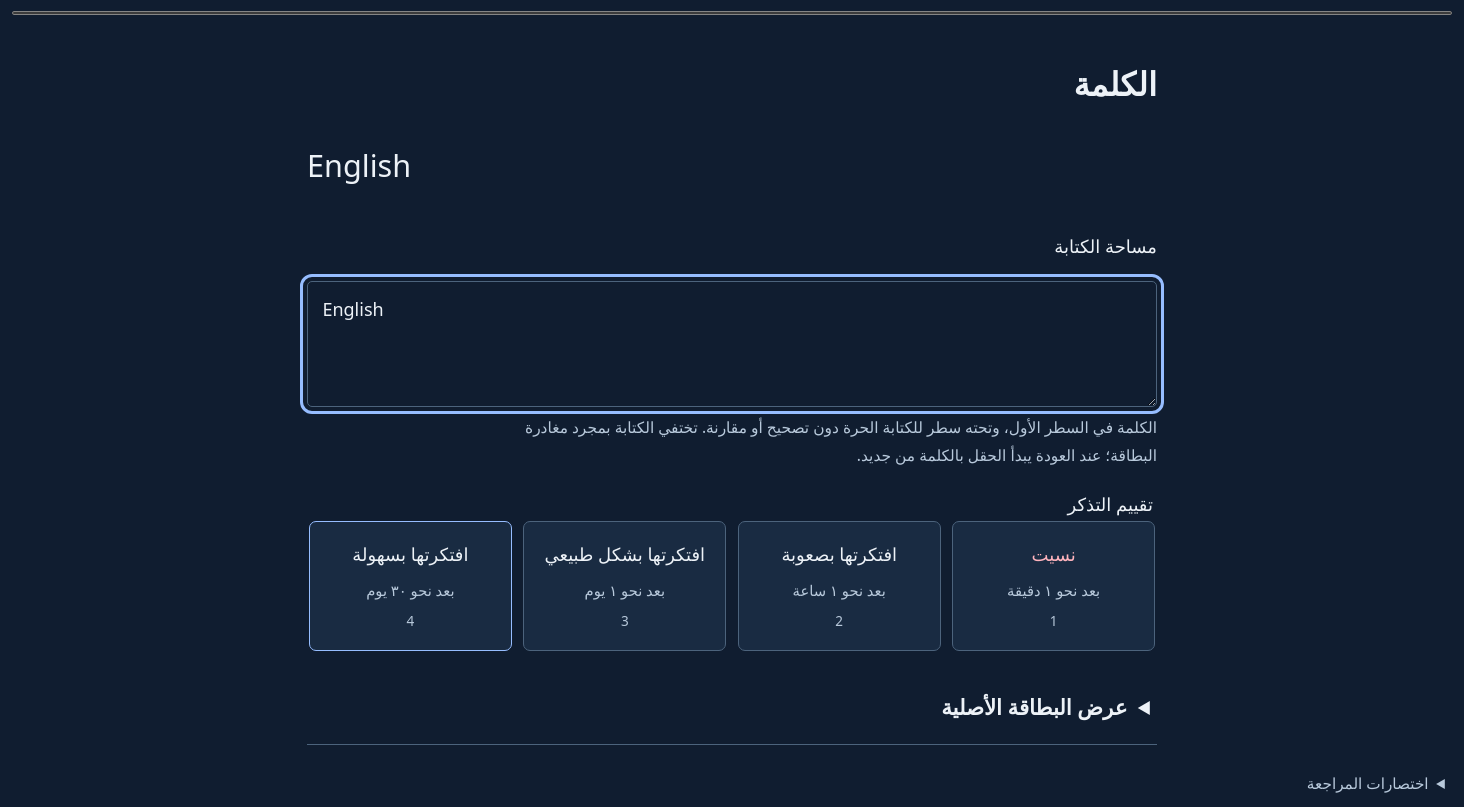
Scenario: loads bounded retained contexts on request and paginates plain saved versions
(page scrolled)
Click the heading "عرض البطاقة الأصلية": (1034, 707) [941, 692, 1127, 721]
(page scrolled)
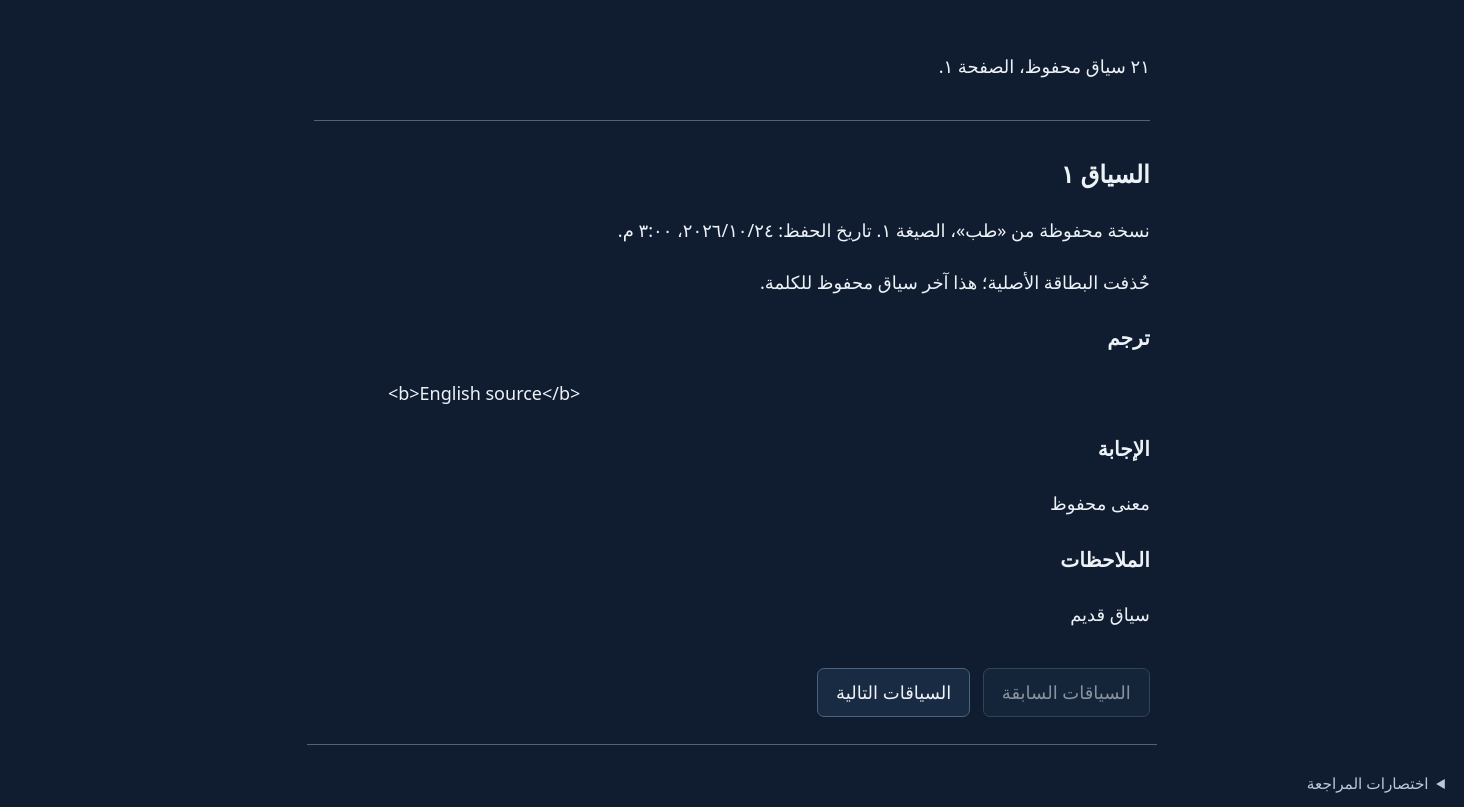
Now the text "<b>English source</b>" is shown, box [388, 380, 580, 404]
Now the text "حُذفت البطاقة الأصلية؛ هذا آخر سياق محفوظ للكلمة." is shown, box [760, 270, 1150, 294]
Now the text "نسخة محفوظة" is shown, box [997, 218, 1150, 242]
Click the button "السياقات التالية": (894, 692) [817, 668, 970, 717]
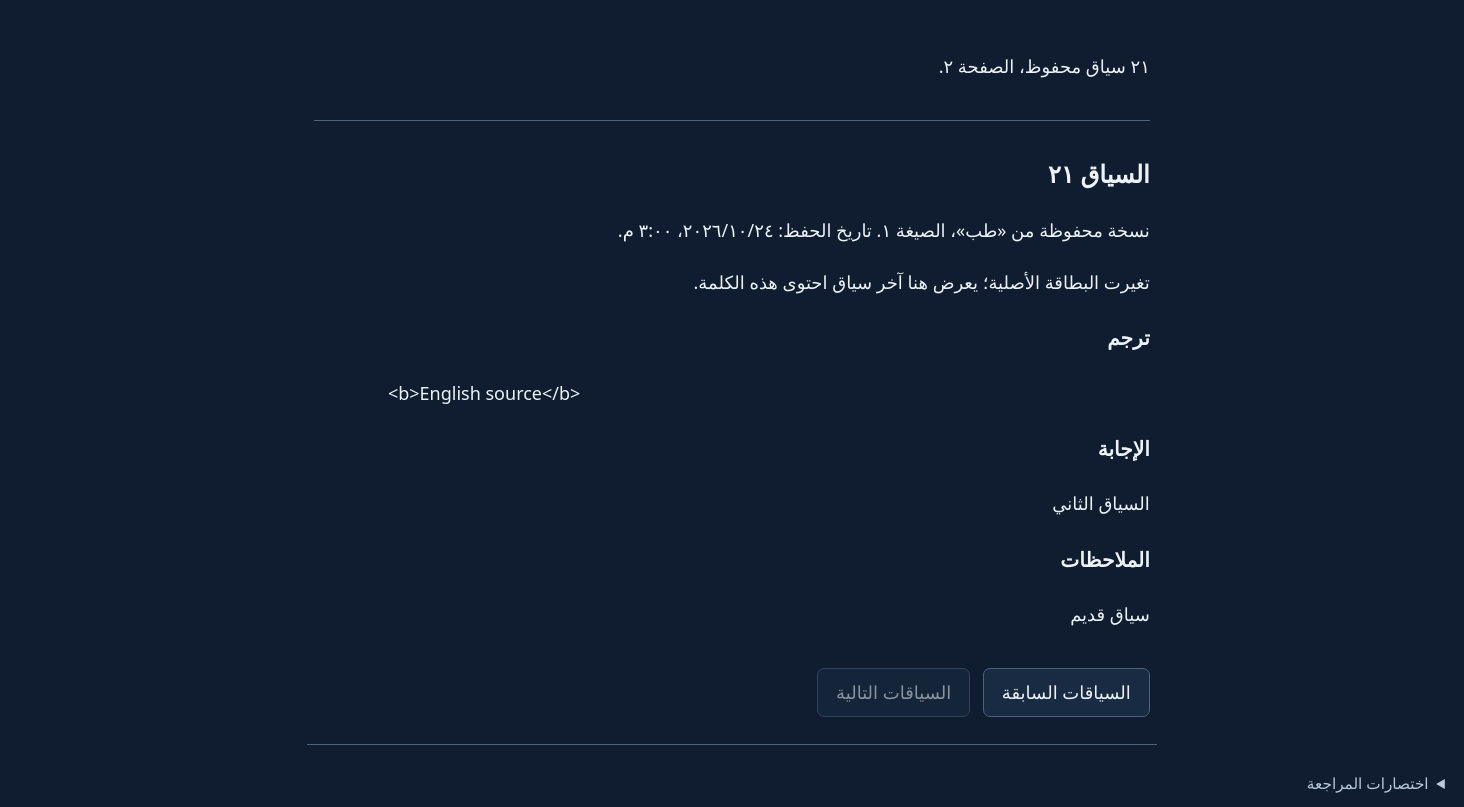
Now the text "السياق الثاني" is shown, box [1052, 491, 1150, 515]
Now the text "تغيرت البطاقة الأصلية؛ يعرض هنا آخر سياق احتوى هذه الكلمة." is shown, box [694, 270, 1150, 294]
